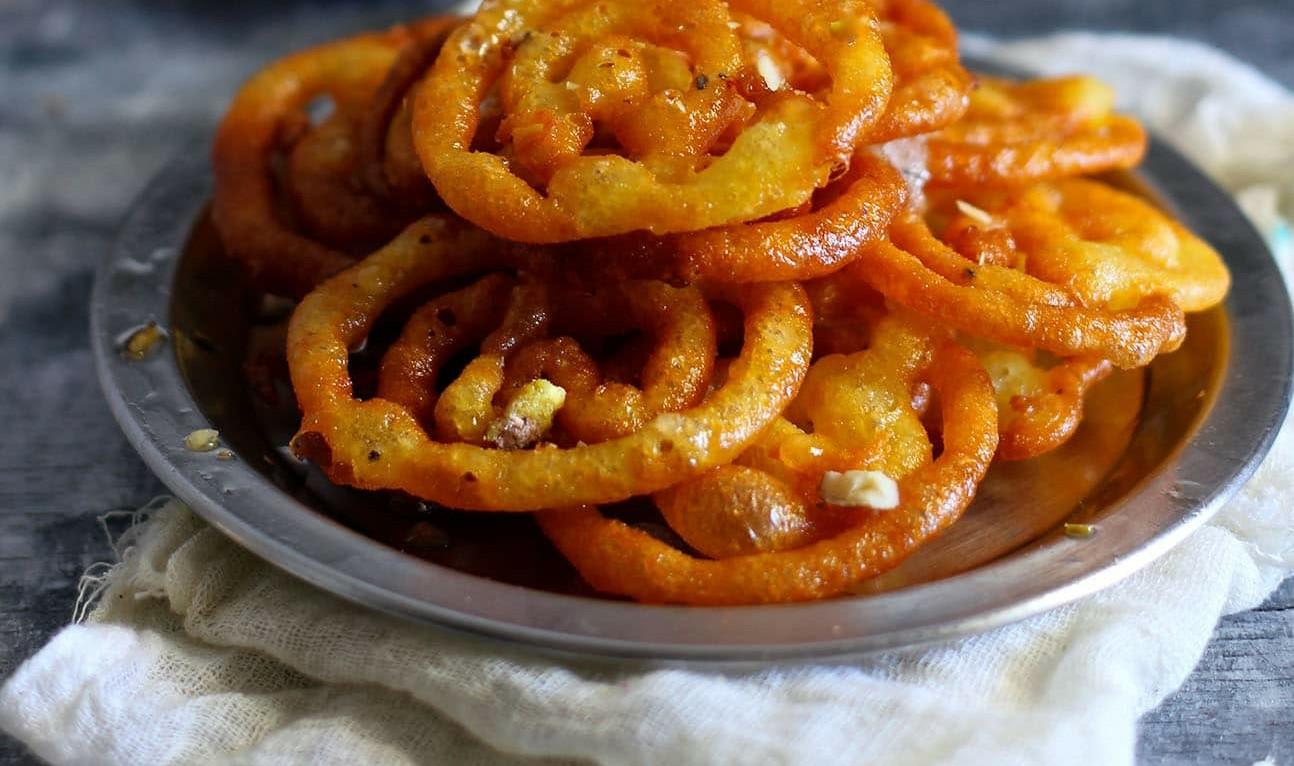Jalebi: (204, 0, 1241, 602)
